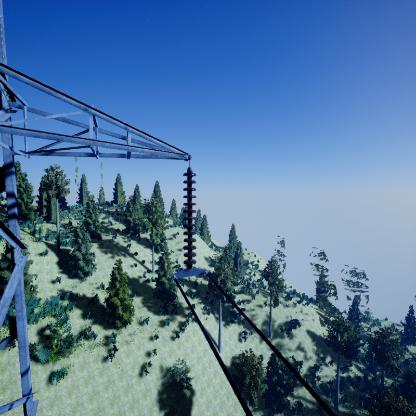insulator: (181, 168, 197, 270)
